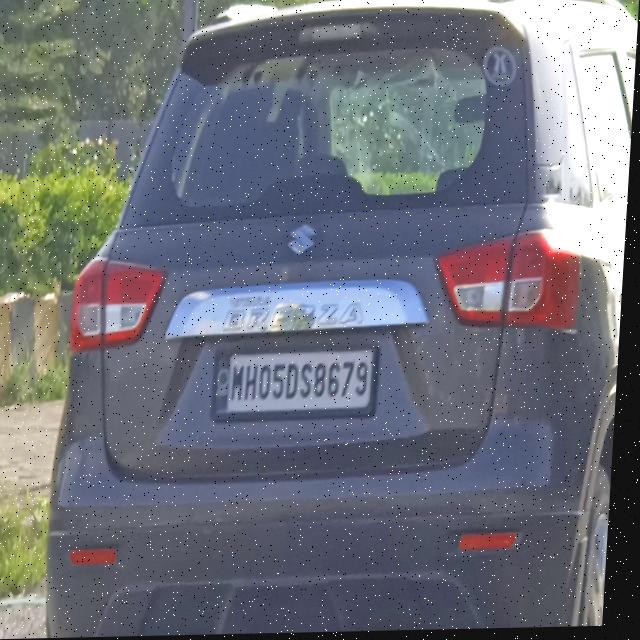plate: (216, 346, 384, 422)
